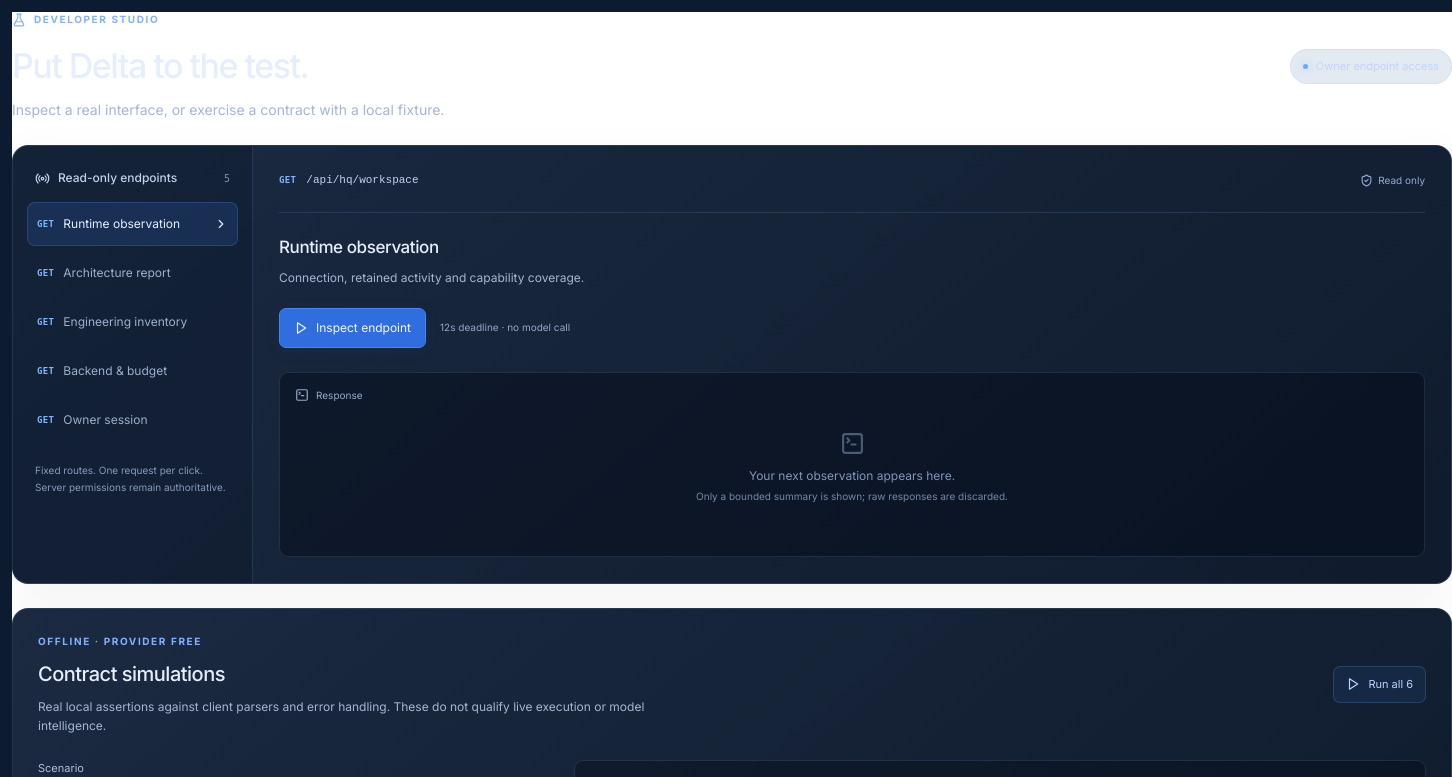
Test: reads only the chosen endpoint on demand and strips raw response fields
Click the button "Inspect endpoint" at (352, 328), box [279,308,426,348]
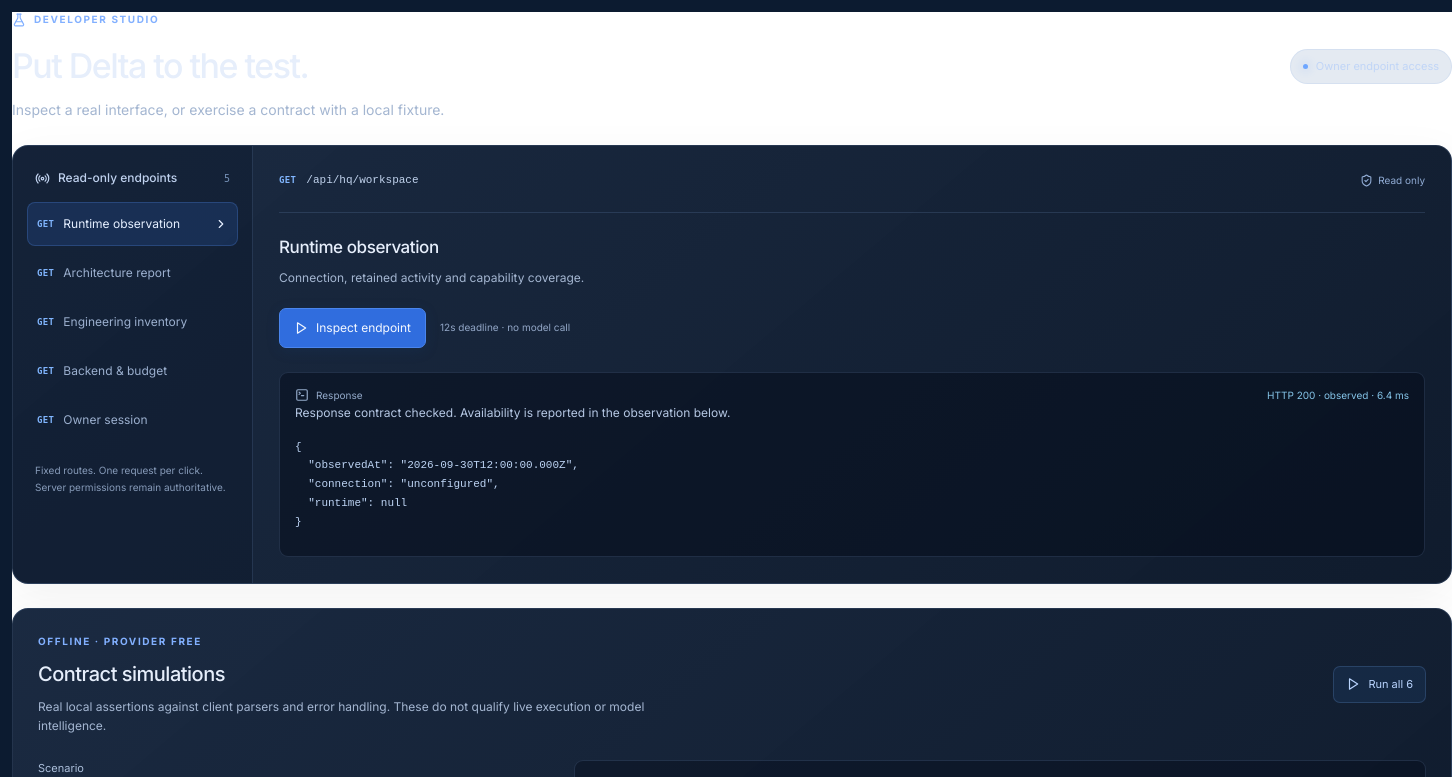
Now the text "Response contract checked. Availability is reported in the observation below." is shown, box [295,405,730,420]
Now the element named "Endpoint response" shows "unconfigured", box [295,441,579,528]
